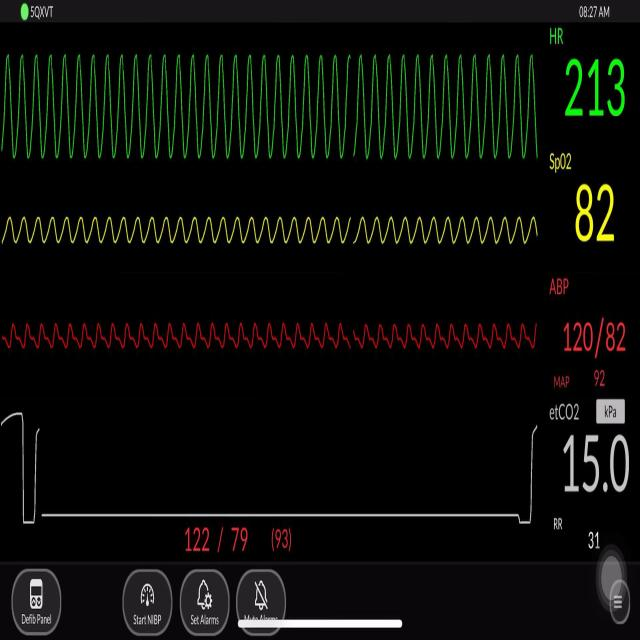danger: (11, 40, 562, 173)
